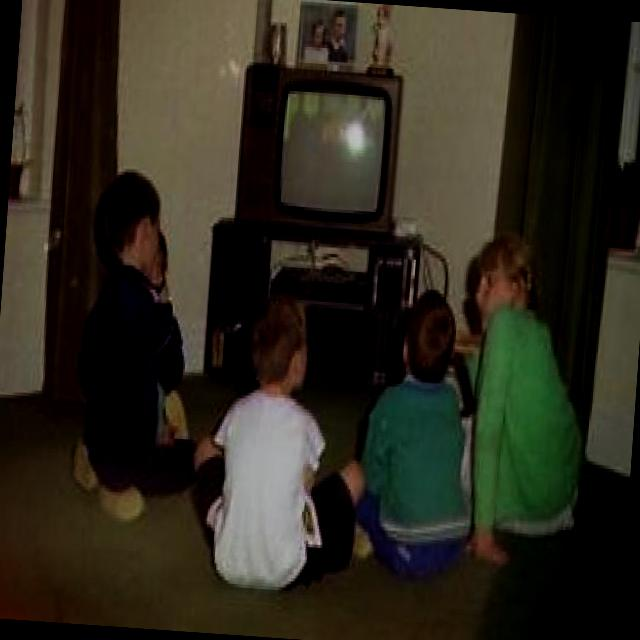no_vest: (59, 238, 202, 465), (465, 290, 593, 532), (205, 375, 338, 565), (366, 360, 470, 549)
